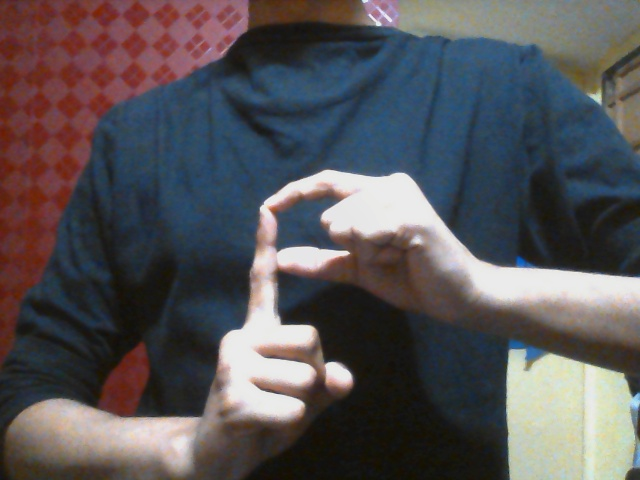P: (202, 169, 468, 460)
